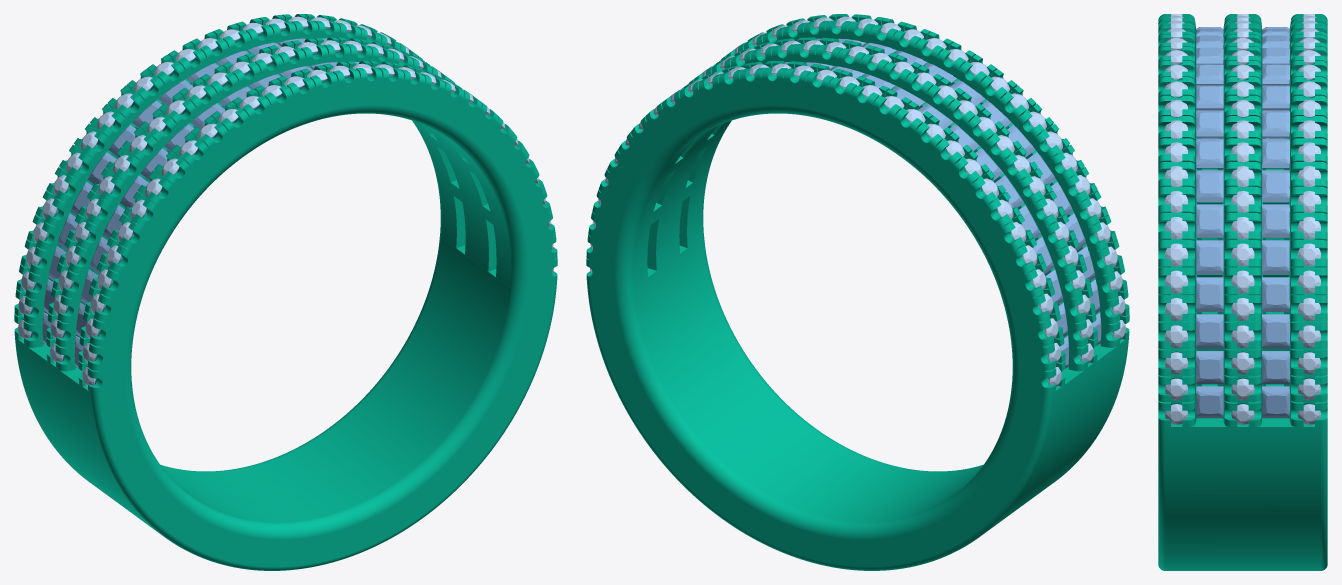
3 renders of one model, left to right at view 1: azimuth 30°, elevation 25°; view 2: azimuth 150°, elevation 25°; view 3: azimuth 270°, elevation 25°, orthographic. The views are drawn at different scales.
Parts seen in each view (by area): view 1: ROUND-PRINCESS(CHANEL SETTING)RPT(front).3dm; view 2: ROUND-PRINCESS(CHANEL SETTING)RPT(front).3dm; view 3: ROUND-PRINCESS(CHANEL SETTING)RPT(front).3dm, Diamond_Princess (×26), Diamond_Round (×42).
Part boxes in pixels (box(x1,y1,x2,y2)): ROUND-PRINCESS(CHANEL SETTING)RPT(front).3dm: box(14, 14, 557, 570); ROUND-PRINCESS(CHANEL SETTING)RPT(front).3dm: box(586, 14, 1129, 570); ROUND-PRINCESS(CHANEL SETTING)RPT(front).3dm: box(1158, 14, 1327, 570); Diamond_Princess (×26): box(1196, 35, 1289, 418); Diamond_Round (×42): box(1165, 81, 1320, 424).
Size of the model in its own units: 2.77 by 2.77 by 0.8412.
